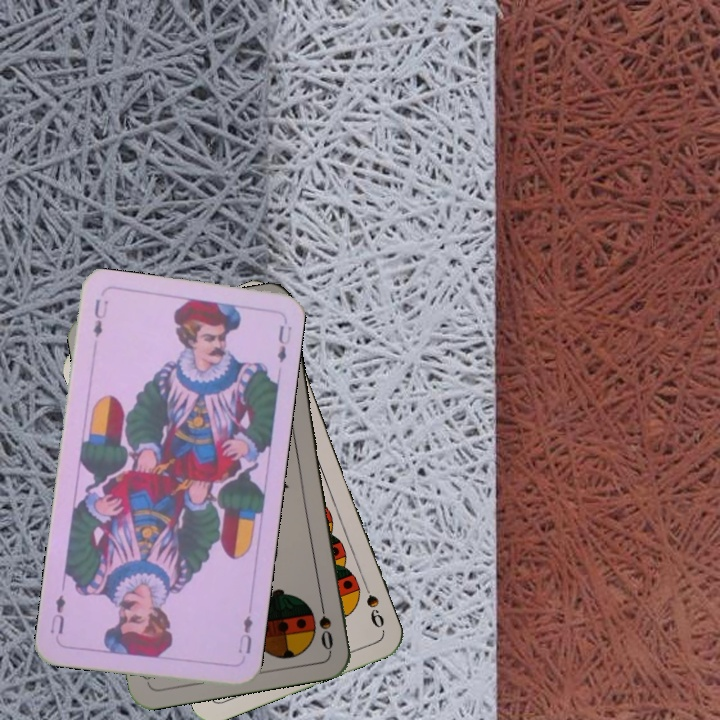EU: (234, 611, 256, 657), (89, 295, 111, 340)
S9: (357, 575, 387, 631)
SO: (314, 594, 336, 653)
